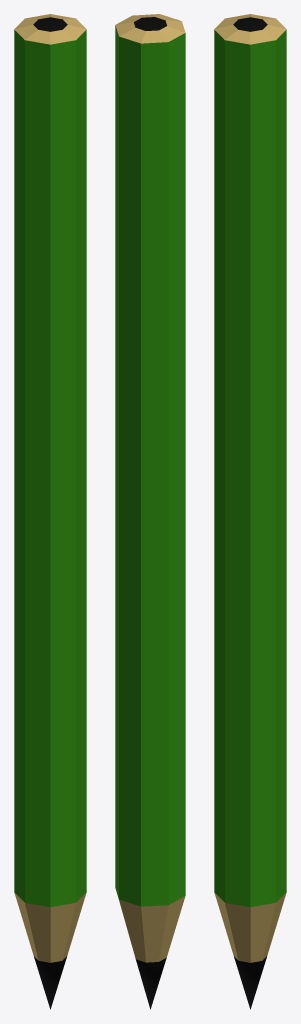
The model's file is Pencil_01.fbx.
The picture shows the model from 3 angles, left to right: view 1: azimuth 90°, elevation 25°; view 2: azimuth 210°, elevation 25°; view 3: azimuth 270°, elevation 25°; orthographic projection.
Parts seen in each view (by area): view 1: pCylinder1; view 2: pCylinder1; view 3: pCylinder1.
Part boxes in pixels (left/top/right/bottom): pCylinder1: left=14, top=14, right=86, bottom=1009; pCylinder1: left=115, top=14, right=185, bottom=1009; pCylinder1: left=214, top=14, right=286, bottom=1009.
Size of the model in its own units: 0.8102 by 12.18 by 0.8102.
